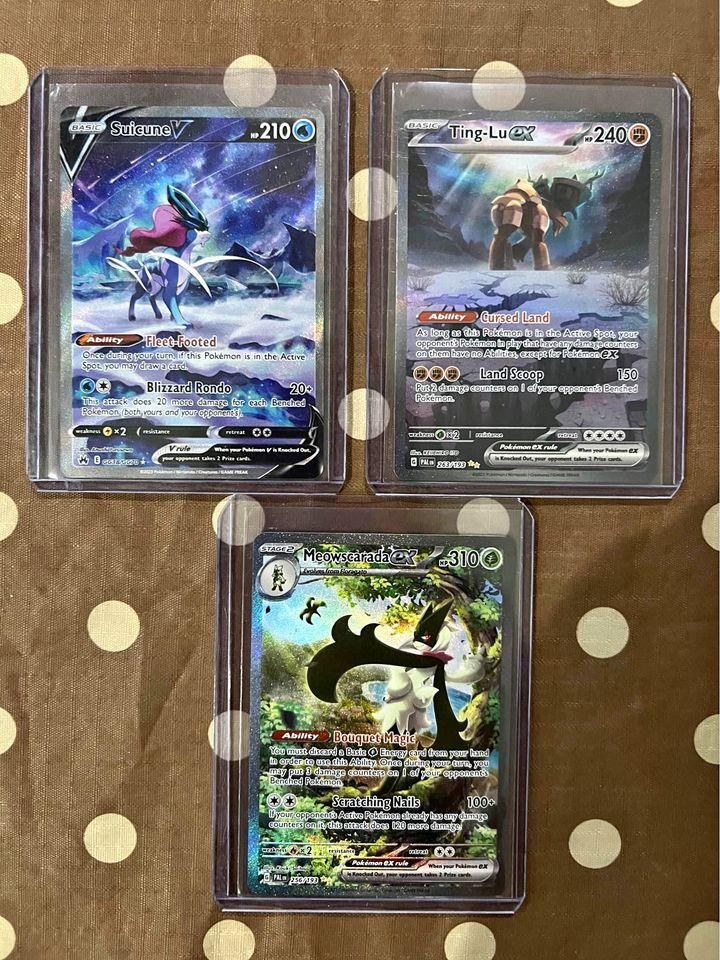card: (391, 108, 663, 485), (58, 105, 327, 481), (245, 531, 517, 898)
